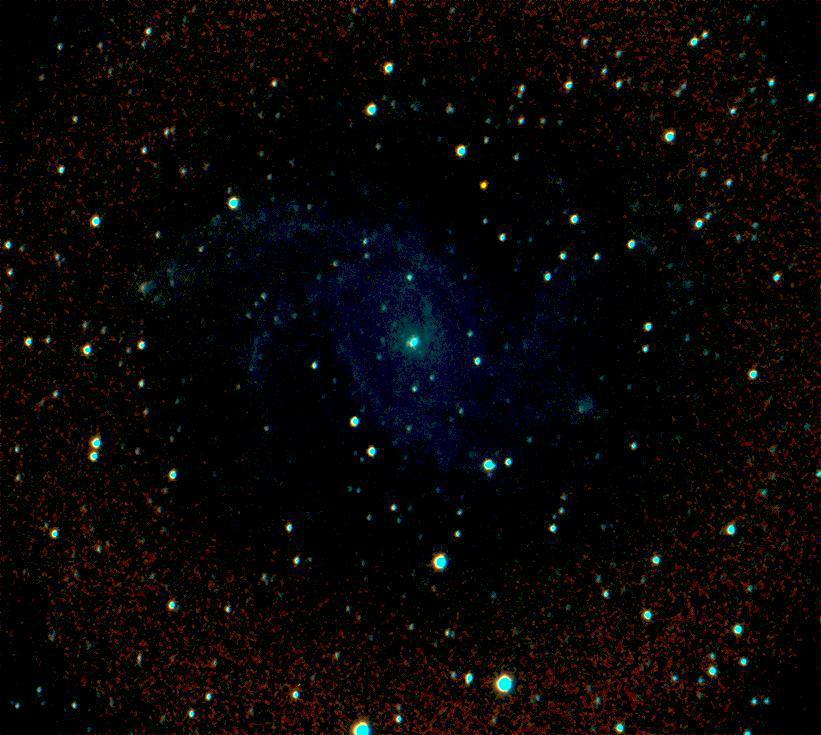star: (469, 169, 499, 199)
